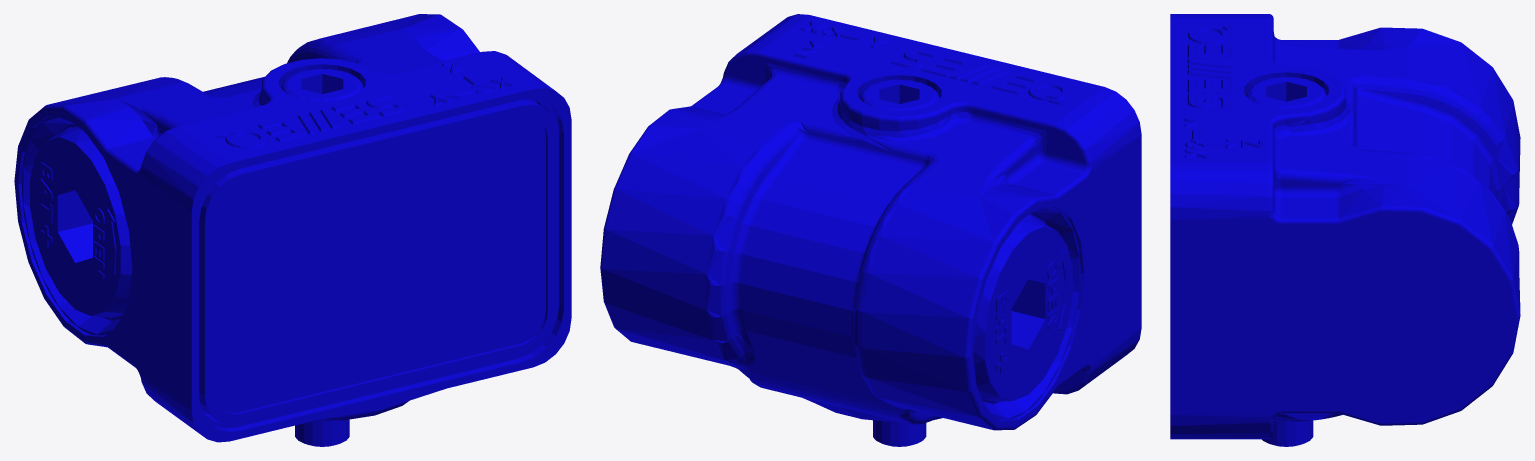
Rendered from axon.glb.
3 views of the same model, side by side, from view 1: azimuth 30°, elevation 25°; view 2: azimuth 150°, elevation 25°; view 3: azimuth 270°, elevation 25° (orthographic). The views are drawn at different scales.
Parts seen in each view (by area): view 1: sensor; view 2: sensor; view 3: sensor.
Part boxes in pixels (x1=…): sensor: x1=14, y1=14, x2=571, y2=446; sensor: x1=600, y1=14, x2=1141, y2=446; sensor: x1=1170, y1=14, x2=1520, y2=446.
Size of the model in its own units: 0.4513 by 0.4037 by 0.3668.
